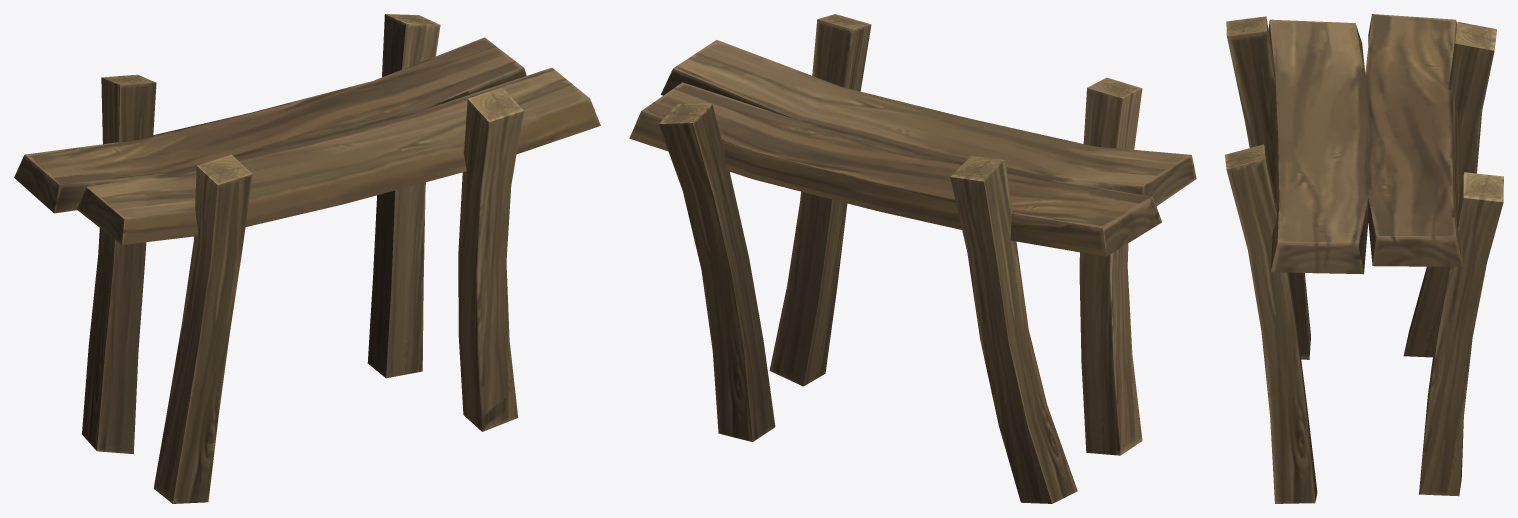
Rendered from scaffolding_B.fbx.
The picture shows the model from 3 angles, left to right: view 1: azimuth 30°, elevation 25°; view 2: azimuth 150°, elevation 25°; view 3: azimuth 270°, elevation 25°; orthographic projection.
Parts seen in each view (by area): view 1: scaffolding_B; view 2: scaffolding_B; view 3: scaffolding_B.
Part boxes in pixels (left/top/right/bottom): scaffolding_B: left=14, top=14, right=600, bottom=503; scaffolding_B: left=629, top=14, right=1196, bottom=503; scaffolding_B: left=1225, top=14, right=1503, bottom=503.
Size of the model in its own units: 369 by 243 by 180.
